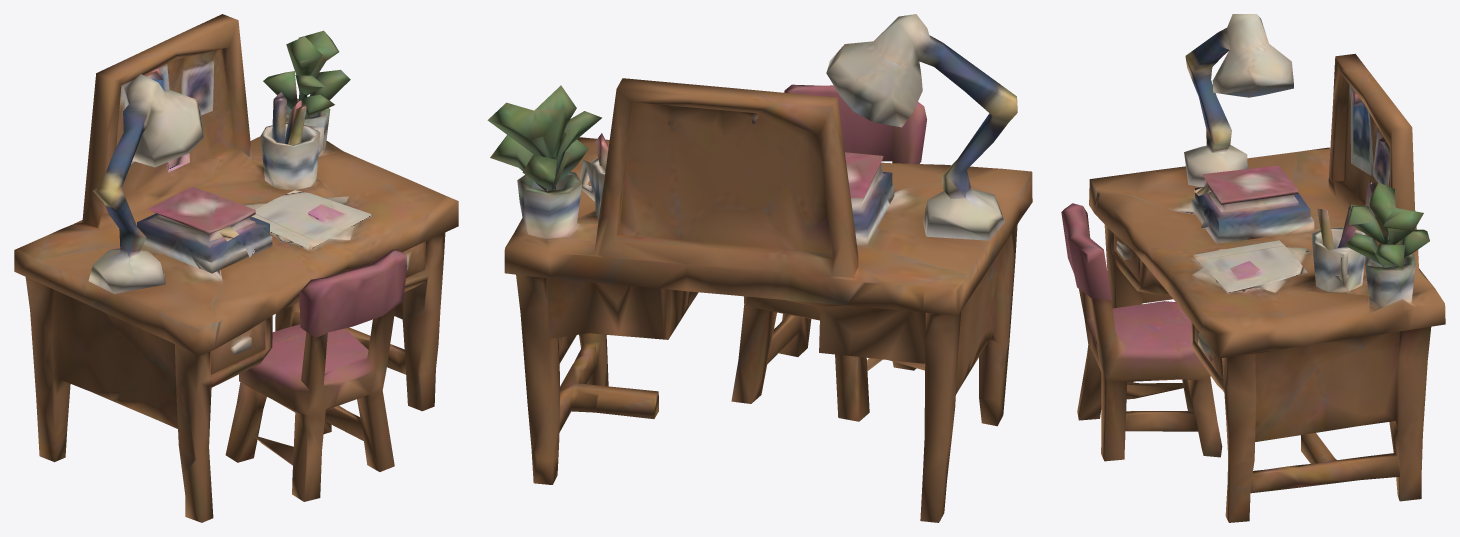
The model's file is desk.glb.
3 views of the same model, side by side, from view 1: azimuth 30°, elevation 25°; view 2: azimuth 150°, elevation 25°; view 3: azimuth 270°, elevation 25° (orthographic). The views are drawn at different scales.
Parts seen in each view (by area): view 1: tripo_node_b4399537-d705-4c8b-aa46-41151400ca20; view 2: tripo_node_b4399537-d705-4c8b-aa46-41151400ca20; view 3: tripo_node_b4399537-d705-4c8b-aa46-41151400ca20.
Part boxes in pixels (bbox=[...]): tripo_node_b4399537-d705-4c8b-aa46-41151400ca20: bbox=[14, 14, 458, 522]; tripo_node_b4399537-d705-4c8b-aa46-41151400ca20: bbox=[487, 14, 1032, 522]; tripo_node_b4399537-d705-4c8b-aa46-41151400ca20: bbox=[1061, 14, 1445, 522].
Bounding box in the file's own units: 1 × 0.9641 × 0.8887.
Materials: 1 (1 with a texture image).
